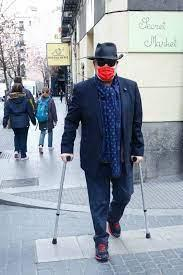crutches: (47, 35, 156, 259)
